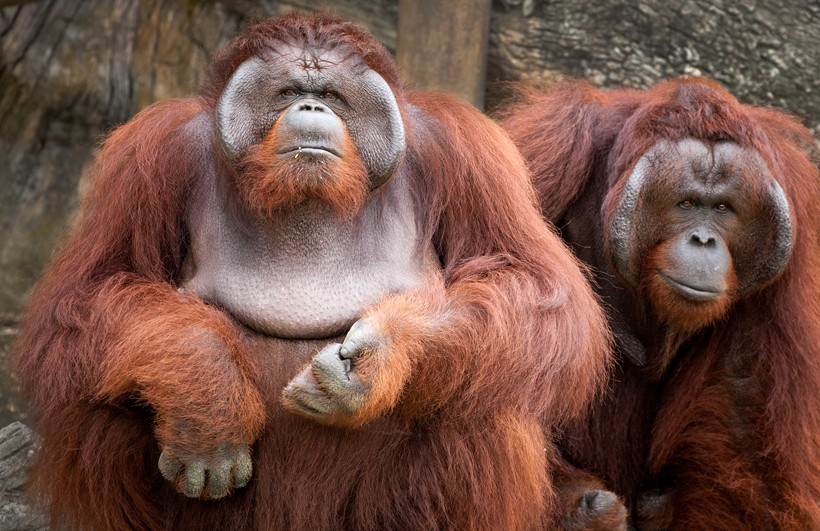Orangutan: (66, 41, 563, 524), (523, 84, 815, 515)
